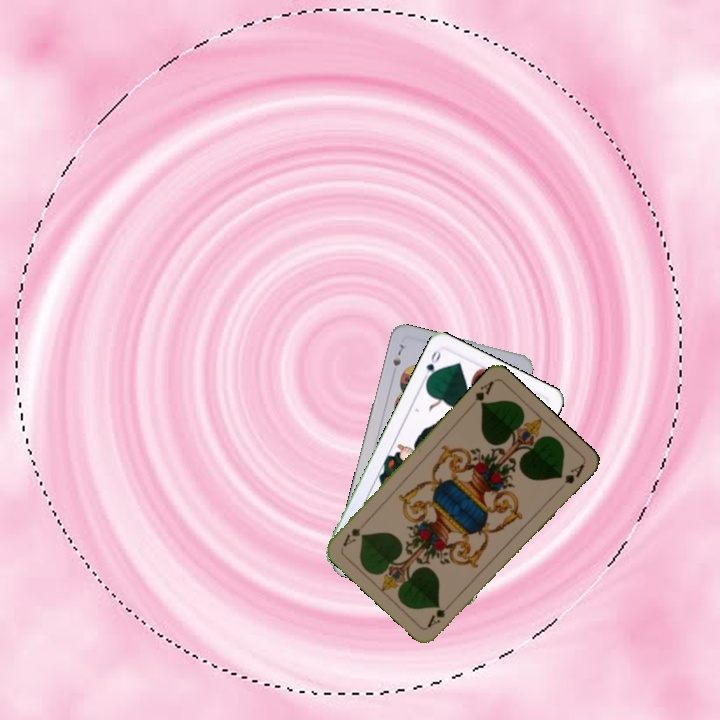GA: (423, 597, 456, 630), (465, 377, 496, 411)
GO: (422, 346, 443, 385)
S7: (389, 340, 409, 368)
